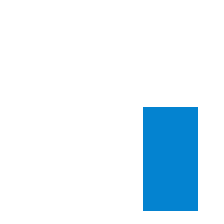rectangle: (143, 107, 197, 210)
